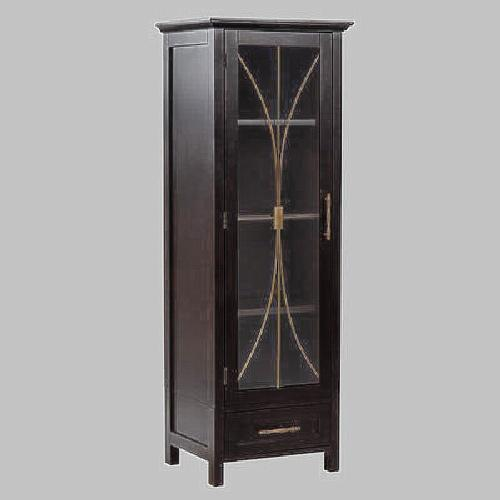cabinet: (152, 13, 357, 479)
